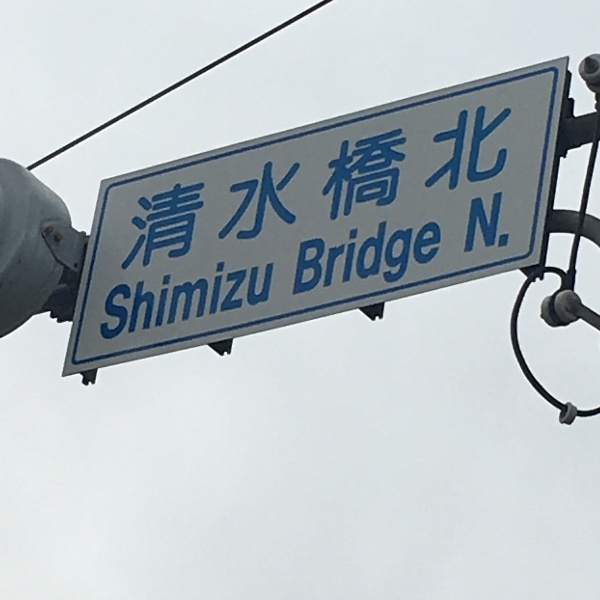text: (145, 98, 160, 275), (161, 98, 176, 275), (177, 98, 192, 275), (193, 98, 208, 275), (209, 98, 224, 275), (225, 98, 240, 275), (241, 98, 256, 275), (257, 98, 272, 275), (273, 98, 288, 275), (289, 98, 304, 275), (305, 98, 320, 275), (321, 98, 336, 275), (337, 98, 352, 275), (353, 98, 368, 275), (369, 98, 384, 275), (385, 98, 400, 275), (401, 98, 416, 275), (417, 98, 432, 275), (433, 98, 448, 275), (449, 98, 464, 275), (465, 98, 480, 275), (481, 98, 496, 275), (497, 98, 512, 275), (133, 98, 144, 275), (305, 202, 320, 308), (321, 202, 336, 308), (337, 202, 352, 308), (353, 202, 368, 308), (369, 202, 384, 308), (385, 202, 400, 308), (401, 202, 416, 308), (417, 202, 432, 308), (433, 202, 447, 308), (113, 249, 128, 346), (129, 249, 144, 346), (145, 249, 160, 346), (161, 249, 176, 346), (177, 249, 192, 346), (193, 249, 208, 346), (209, 249, 224, 346), (225, 249, 240, 346), (241, 249, 256, 346), (257, 249, 272, 346), (481, 182, 496, 260), (497, 182, 512, 260), (294, 202, 304, 308), (467, 182, 480, 260), (105, 249, 112, 346), (273, 249, 279, 346), (513, 182, 519, 260)
